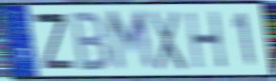1: (231, 10, 257, 70)
B: (70, 9, 113, 72)
H: (184, 9, 229, 71)
M: (104, 7, 157, 74)
X: (146, 8, 189, 73)
Z: (31, 11, 77, 71)
